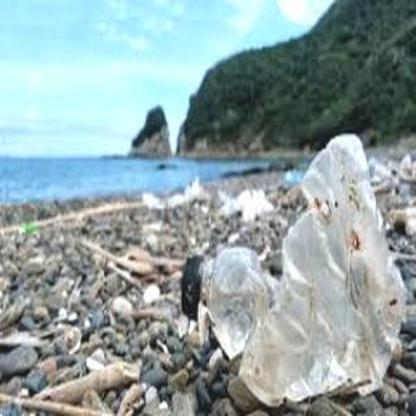plastic bottle: (181, 131, 406, 405)
